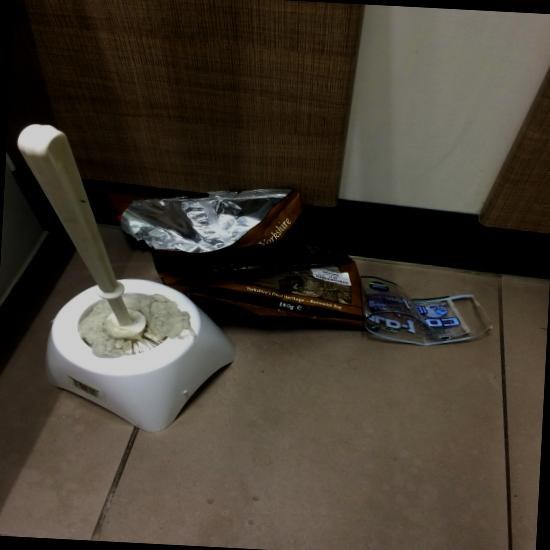Crisp packet: (108, 188, 365, 328)
Plastic film: (361, 276, 494, 346)
Tissues: (78, 300, 146, 358), (122, 294, 197, 341)
